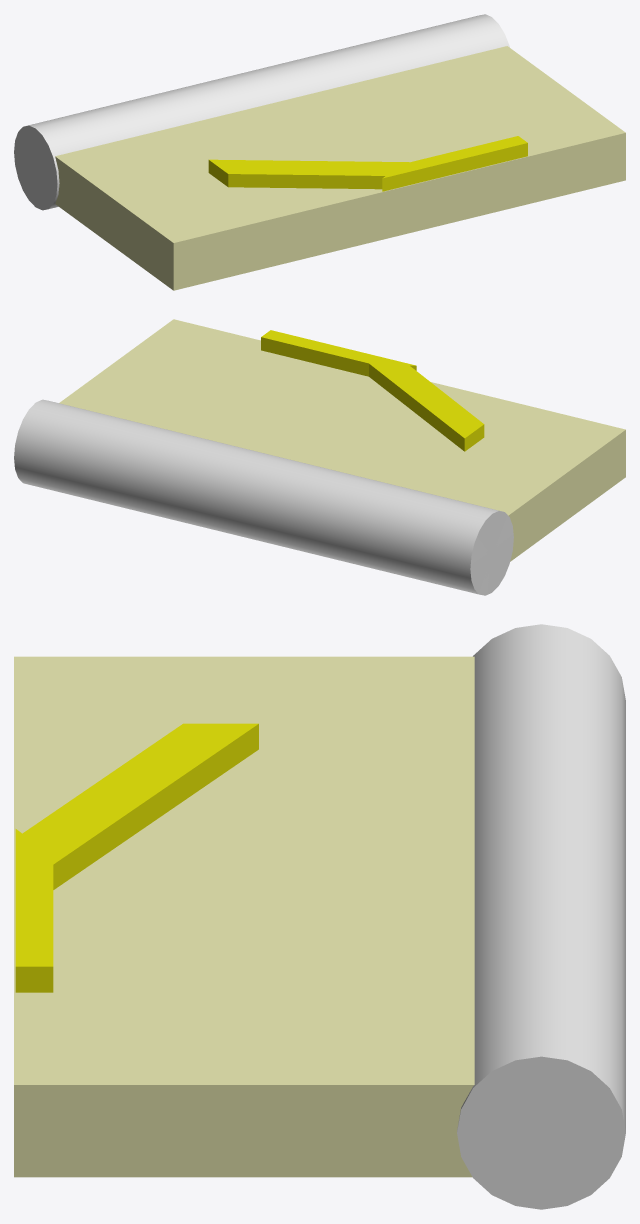
The model's file is Y_Right.fbx.
3 views of the same model, one above another, from view 1: azimuth 30°, elevation 25°; view 2: azimuth 150°, elevation 25°; view 3: azimuth 270°, elevation 25° (orthographic). The views are drawn at different scales.
Visible parts, largest first — view 1: polySurface17; view 2: polySurface17; view 3: polySurface17.
Part boxes in pixels (x1,y1,x2,y2): polySurface17: (14,14,625,290); polySurface17: (14,319,625,595); polySurface17: (14,624,625,1209).
Bounding box in the file's own units: 6.05 × 1 × 3.62.
